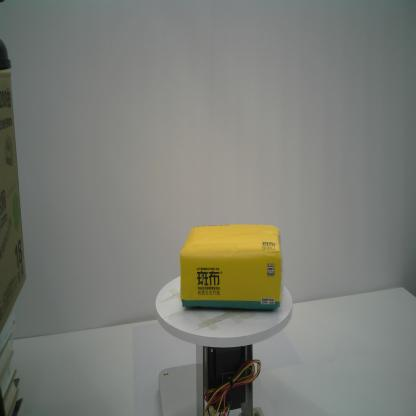Tissue: (178, 221, 285, 316)
